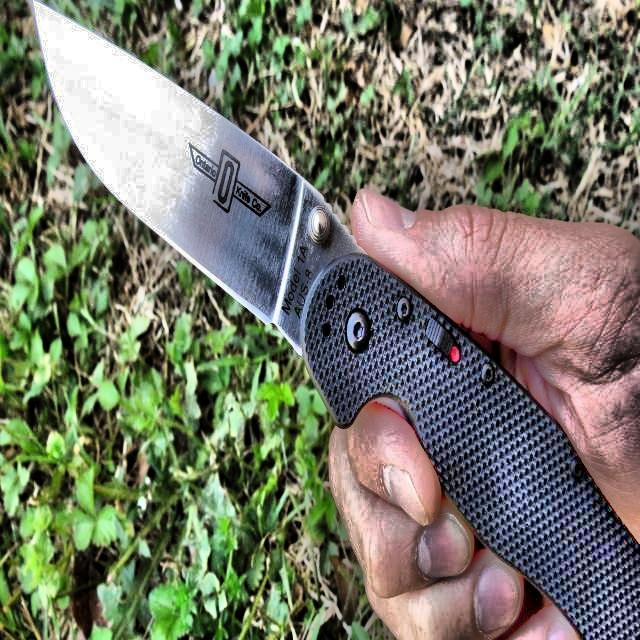knife: (32, 5, 639, 637)
